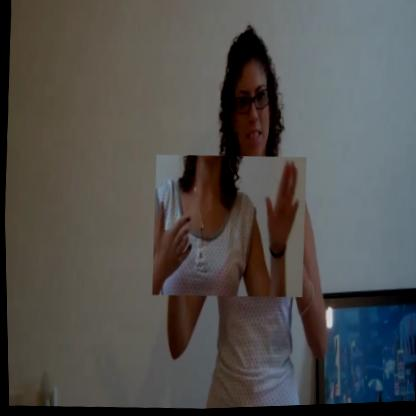NiceToMeetYou: (148, 152, 307, 304)
